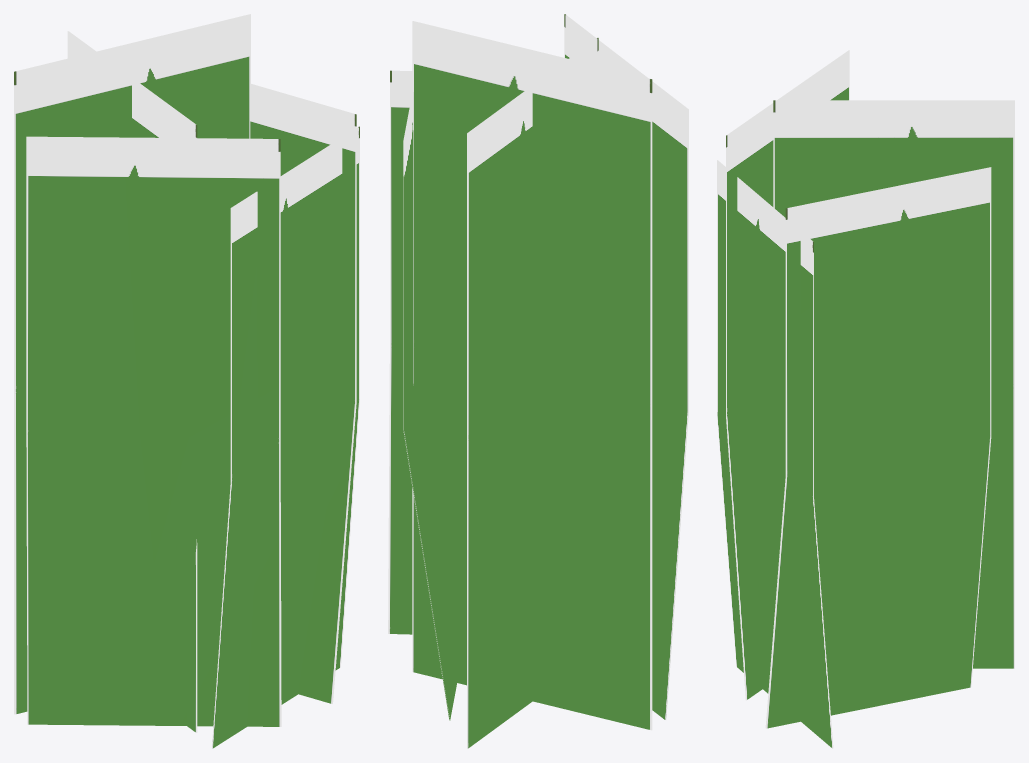
The model's file is Plant_13.glb.
3 views of the same model, side by side, from view 1: azimuth 30°, elevation 25°; view 2: azimuth 150°, elevation 25°; view 3: azimuth 270°, elevation 25° (orthographic). The views are drawn at different scales.
Visible parts, largest first — view 1: Plant_13_LOD0; view 2: Plant_13_LOD0; view 3: Plant_13_LOD0.
Boxes of the visible parts, bbox=[...] form: Plant_13_LOD0: bbox=[14, 14, 359, 748]; Plant_13_LOD0: bbox=[388, 14, 688, 748]; Plant_13_LOD0: bbox=[717, 50, 1014, 748].
Size of what is drawn, in the model's own units: 0.3135 by 0.6129 by 0.2752.
Materials: 1 (1 with a texture image).
